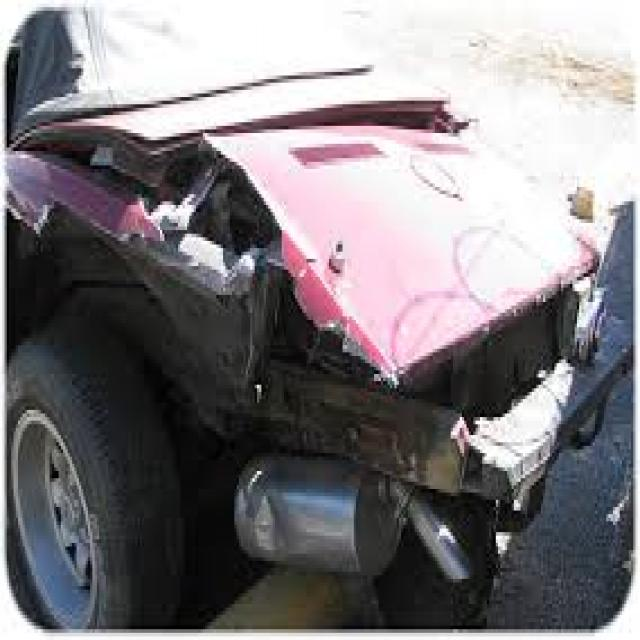severe: (75, 117, 606, 615)
